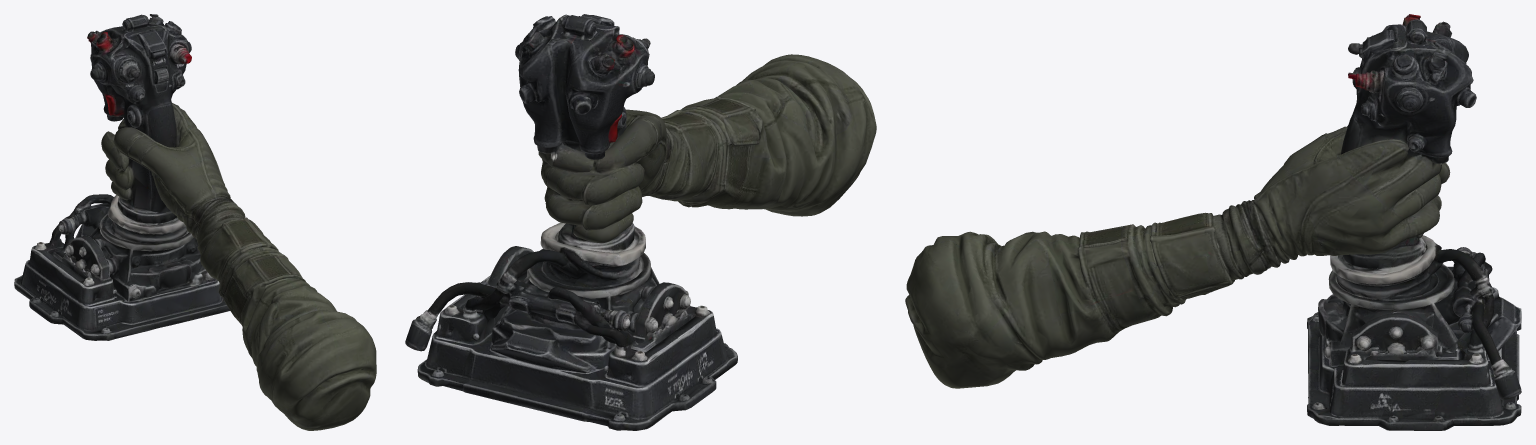
File: bras-manche.glb
3 renders of one model, left to right at view 1: azimuth 30°, elevation 25°; view 2: azimuth 150°, elevation 25°; view 3: azimuth 270°, elevation 25°, orthographic. The views are drawn at different scales.
Bounding box in the file's own units: 0.8816 × 1.18 × 1.9.
1 material, 1 textured.
